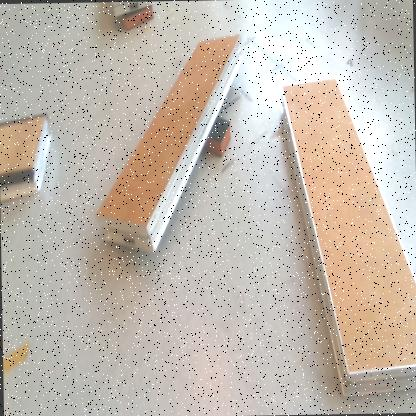Stairs: (280, 75, 416, 401), (97, 32, 246, 259), (1, 114, 55, 204), (111, 2, 154, 17)
